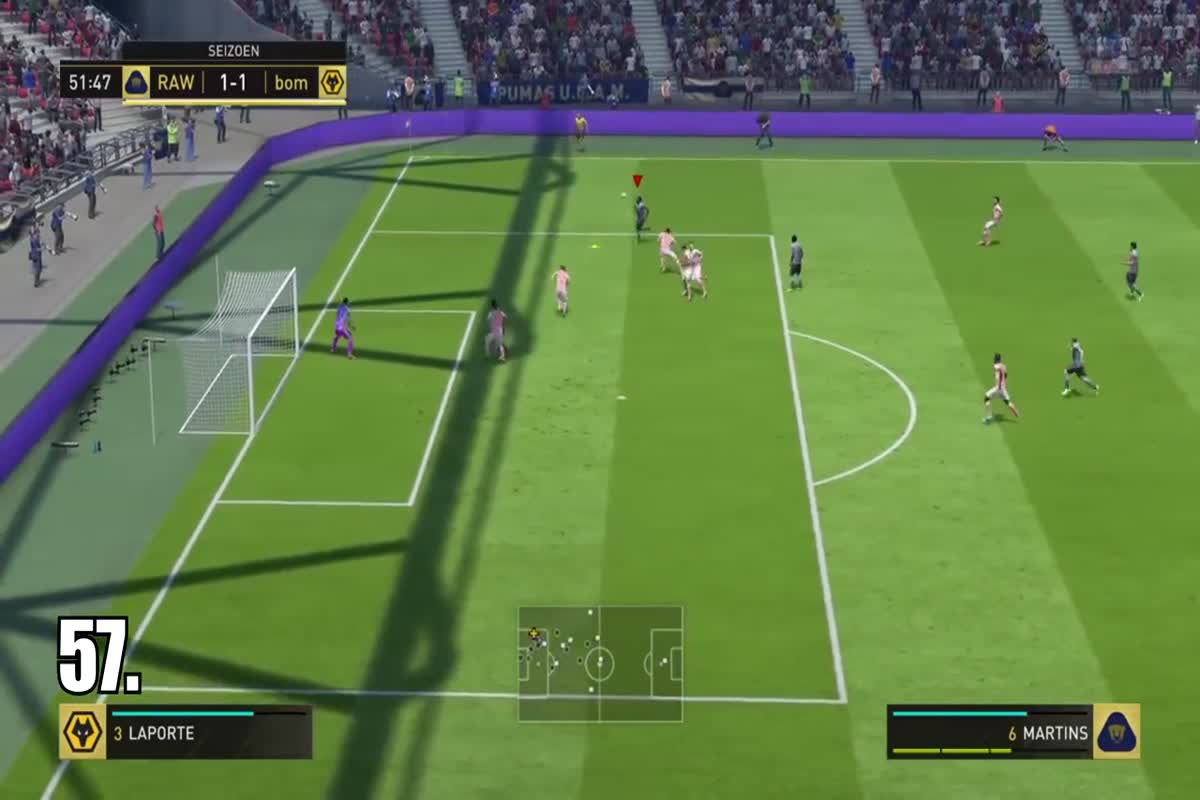ball: (613, 188, 634, 203)
